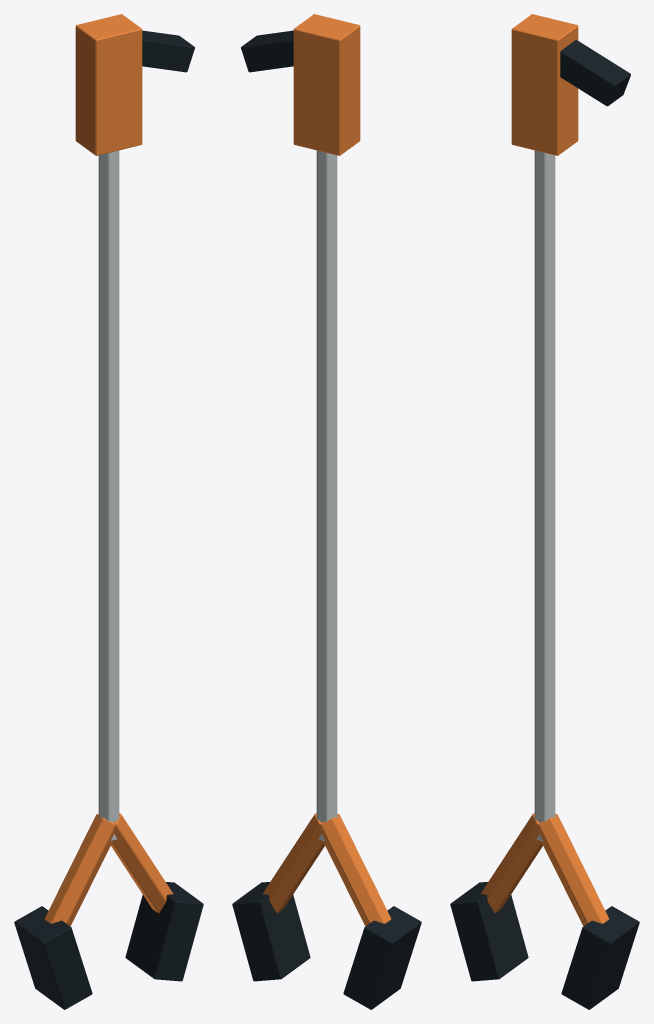
Rendered from b04_trigger_litter_picker_tongs.glb.
3 renders of one model, left to right at view 1: azimuth 30°, elevation 25°; view 2: azimuth 150°, elevation 25°; view 3: azimuth 330°, elevation 25°, orthographic.
Visible parts, largest first — view 1: b04_trigger_litter_picker_tongs; view 2: b04_trigger_litter_picker_tongs; view 3: b04_trigger_litter_picker_tongs.
Part boxes in pixels (x1=…): b04_trigger_litter_picker_tongs: x1=14, y1=14, x2=203, y2=1009; b04_trigger_litter_picker_tongs: x1=232, y1=14, x2=421, y2=1009; b04_trigger_litter_picker_tongs: x1=450, y1=14, x2=639, y2=1009.
Bounding box in the file's own units: 0.188 × 1.07 × 0.06.
